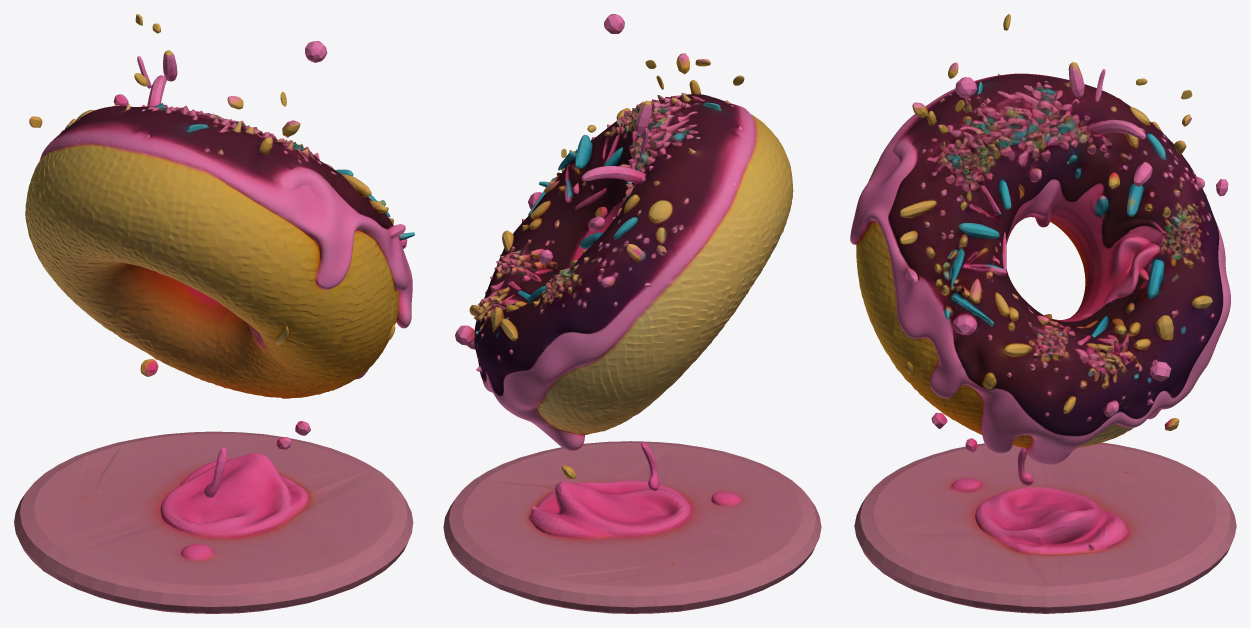
The model's file is pink-donut.glb.
The picture shows the model from 3 angles, left to right: view 1: azimuth 30°, elevation 25°; view 2: azimuth 150°, elevation 25°; view 3: azimuth 270°, elevation 25°; orthographic projection. The views are drawn at different scales.
Parts seen in each view (by area): view 1: tripo_node_6296a232-0314-4762-be8d-17066edb88c6; view 2: tripo_node_6296a232-0314-4762-be8d-17066edb88c6; view 3: tripo_node_6296a232-0314-4762-be8d-17066edb88c6.
Part boxes in pixels (<box>): tripo_node_6296a232-0314-4762-be8d-17066edb88c6: <box>14,14,414,613</box>; tripo_node_6296a232-0314-4762-be8d-17066edb88c6: <box>443,14,821,613</box>; tripo_node_6296a232-0314-4762-be8d-17066edb88c6: <box>850,14,1236,613</box>.
Size of the model in its own units: 0.6251 by 0.9359 by 0.6302.
1 material, 1 textured.
